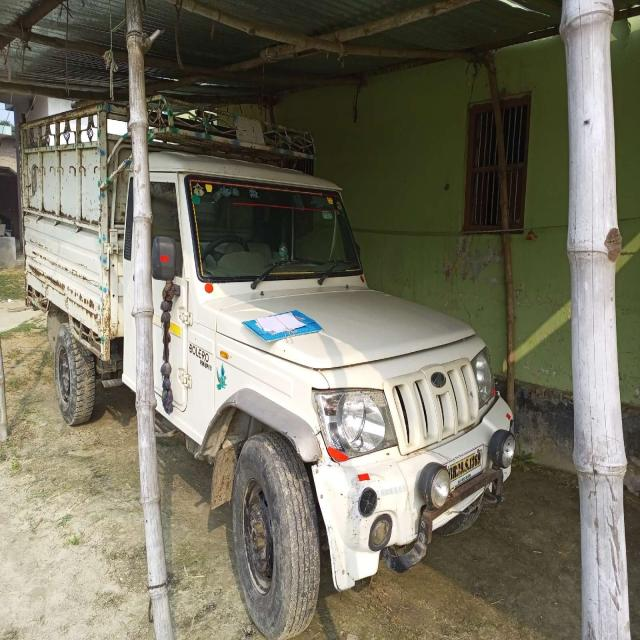light_vehicle: (157, 165, 525, 580)
